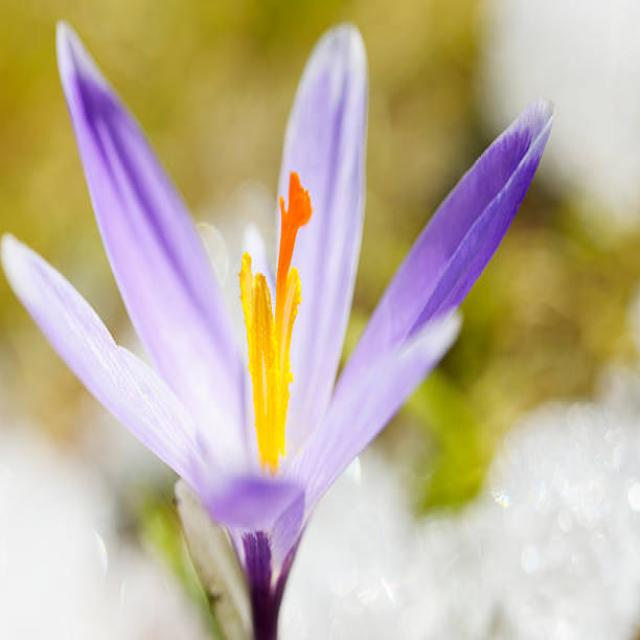saffron open: (1, 22, 552, 639)
